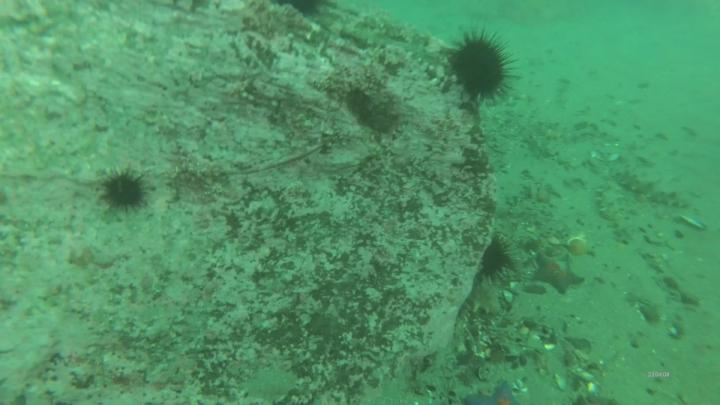echinus: (456, 42, 504, 94), (106, 176, 145, 207), (485, 241, 509, 279)
holothurian: (649, 255, 702, 307), (621, 171, 688, 207), (598, 182, 634, 241)
starfish: (539, 255, 586, 296)
